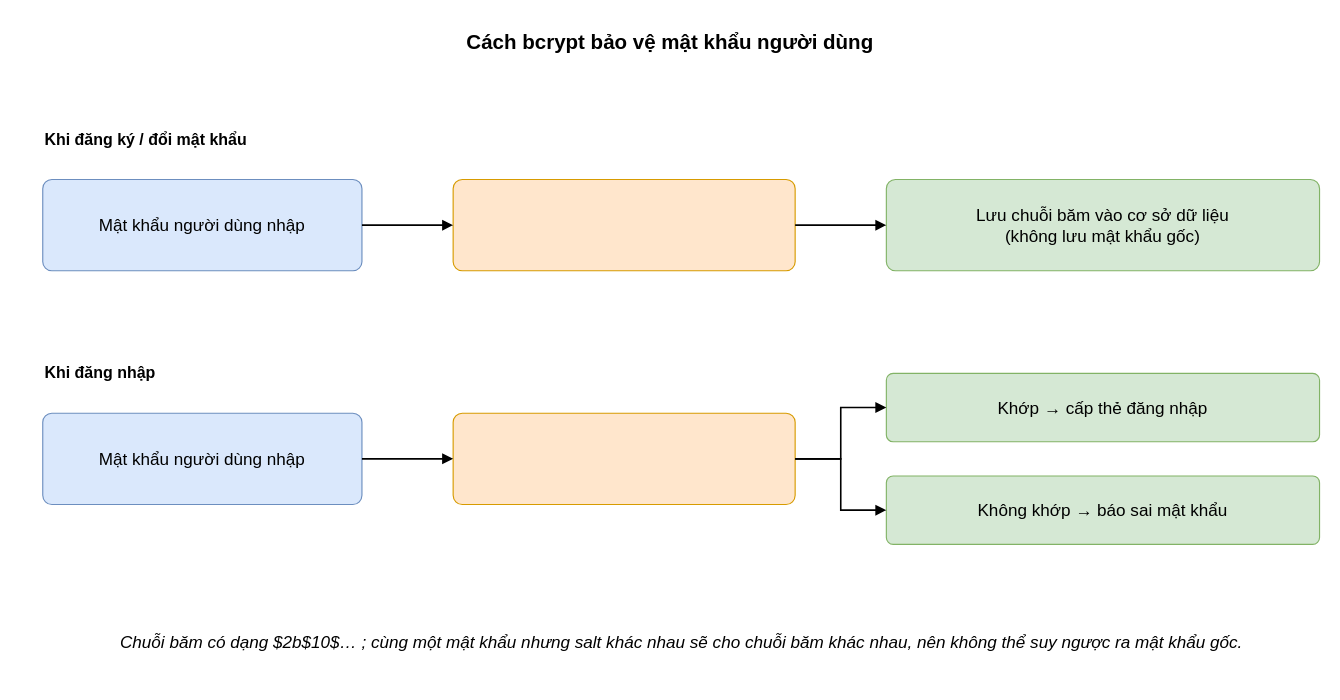
Some shapes in this 1340 by 700 pixel diagram are drawn without their labels. The centre of each missing label's shape, as x and y in pixels:
"Sinh chuỗi ngẫu nhiên (salt) và băm với chi phí 10 vòng" goes at [623,224].
"So khớp với chuỗi băm đã lưu (bcrypt.compare)" goes at [623,458].
